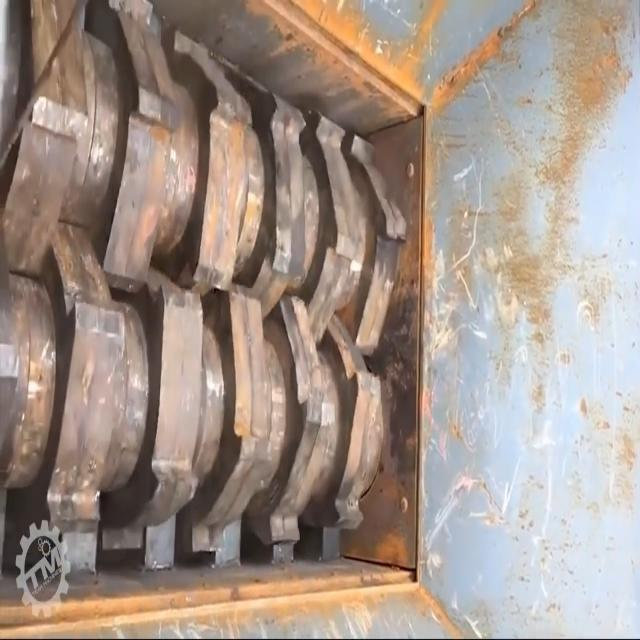Broyeur: (0, 0, 432, 640)
